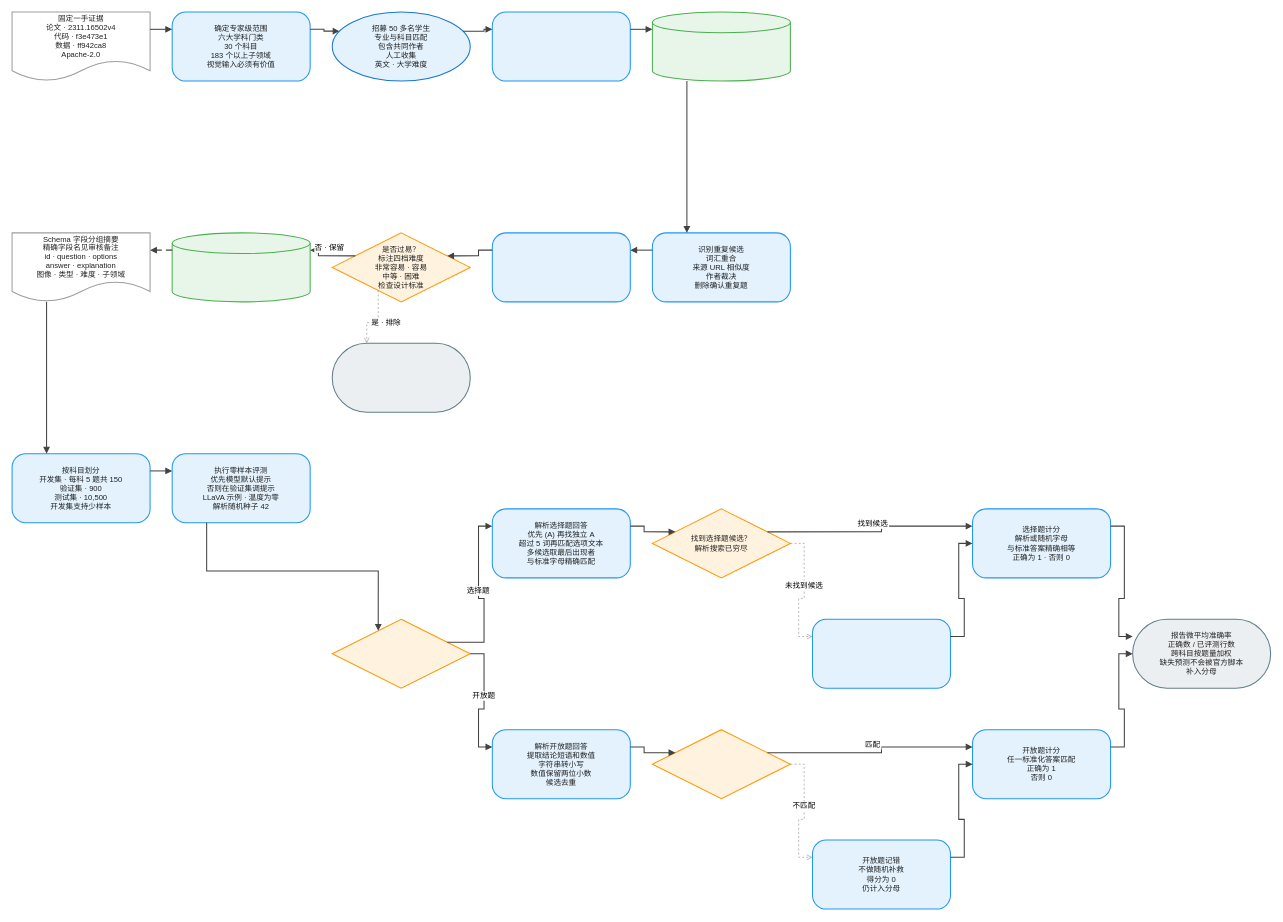
The diagram is 1283 pixels wide and 922 high, and some of its shapes have lost their labels. Each missing label, with the centre of its shape:
共同作者质量检查 统一格式 修正错字 复核歧义 随机抽样审计: (x=561, y=267)
形成原始题池 约 1.3 万道题 每题一张或多张图 选择题或短开放题 遵守来源权利: (x=721, y=46)
找到标准答案匹配？ 字符串包含 或数值相等: (x=721, y=764)
排除非常容易题 约占原始题池 10% 低于预期难度 不进入基准: (x=400, y=377)
收集或自拟题目 免费网页 · 测验 教材 · 讲义 保持来源多样 避开易检索答案: (x=561, y=46)
最终 MMMU 11,550 道题 10,861 选择 · 689 开放 30 类图像 覆盖 6 / 30 / 183: (x=240, y=267)
随机选项补救 random.choice 选项 全局种子 42 仍计入分母: (x=881, y=653)
题目类型？ 选择题 或开放题: (x=400, y=653)
